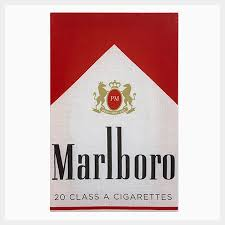marlboro: (50, 13, 178, 211)
